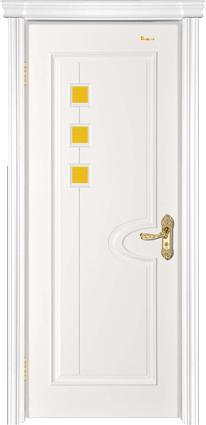door: (21, 18, 183, 417)
